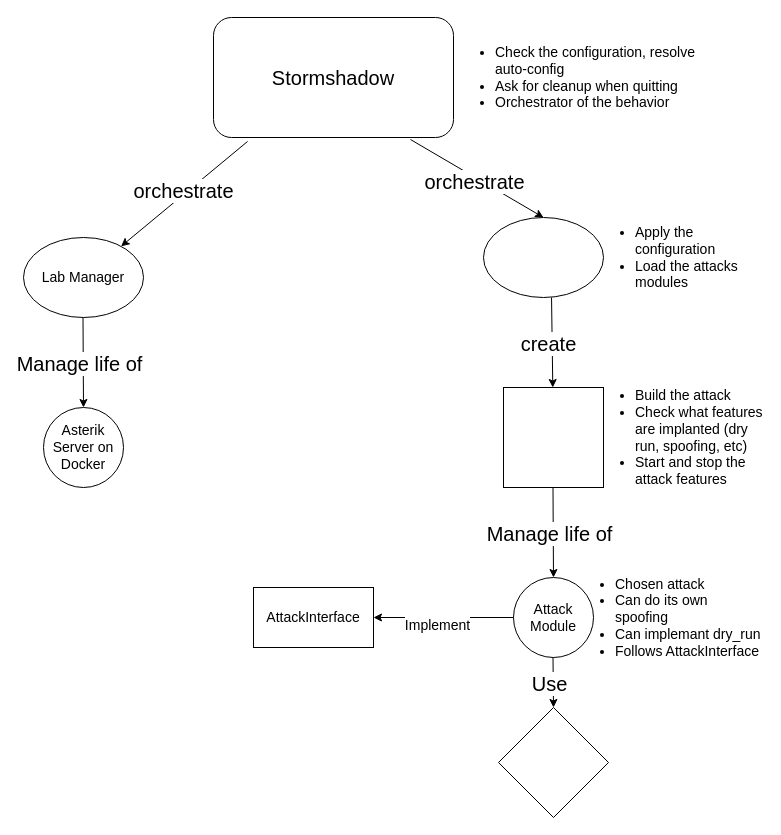
This 781x835 diagram has some shape labels left out. Here are the shapes that lost their labels. From the top down, the centre of each, then its label:
the point at 543,257: Attack Manager
the point at 553,437: Attack Session
the point at 553,762: UDP SPOOFER
